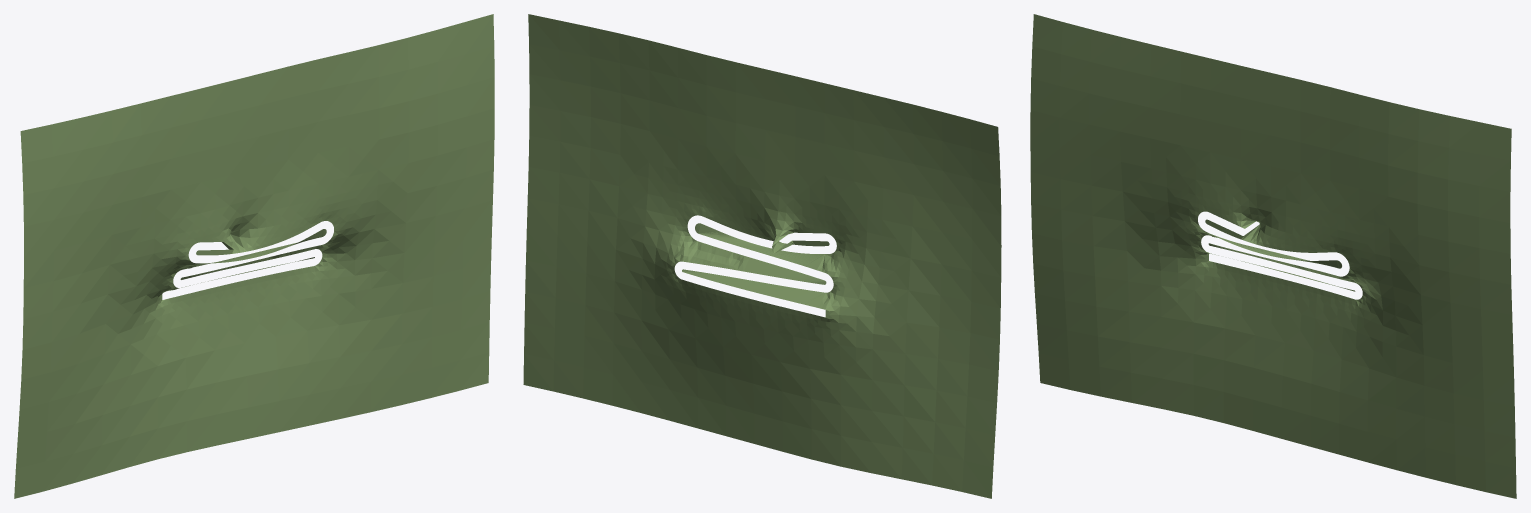
File: scenario12.obj
The picture shows the model from 3 angles, left to right: view 1: azimuth 30°, elevation 25°; view 2: azimuth 150°, elevation 25°; view 3: azimuth 330°, elevation 25°; orthographic projection.
Parts seen in each view (by area): view 1: Background; view 2: Background; view 3: Background.
Boxes of the visible parts, x1,y1,x2,y2 form: Background: (14, 14, 494, 498); Background: (523, 14, 1001, 498); Background: (1030, 14, 1516, 498).
Bounding box in the file's own units: 640 × 480 × 47.8.
